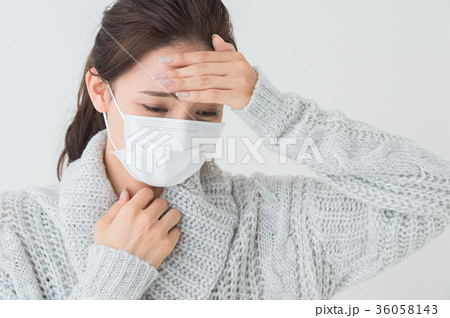mask: (115, 117, 225, 188)
